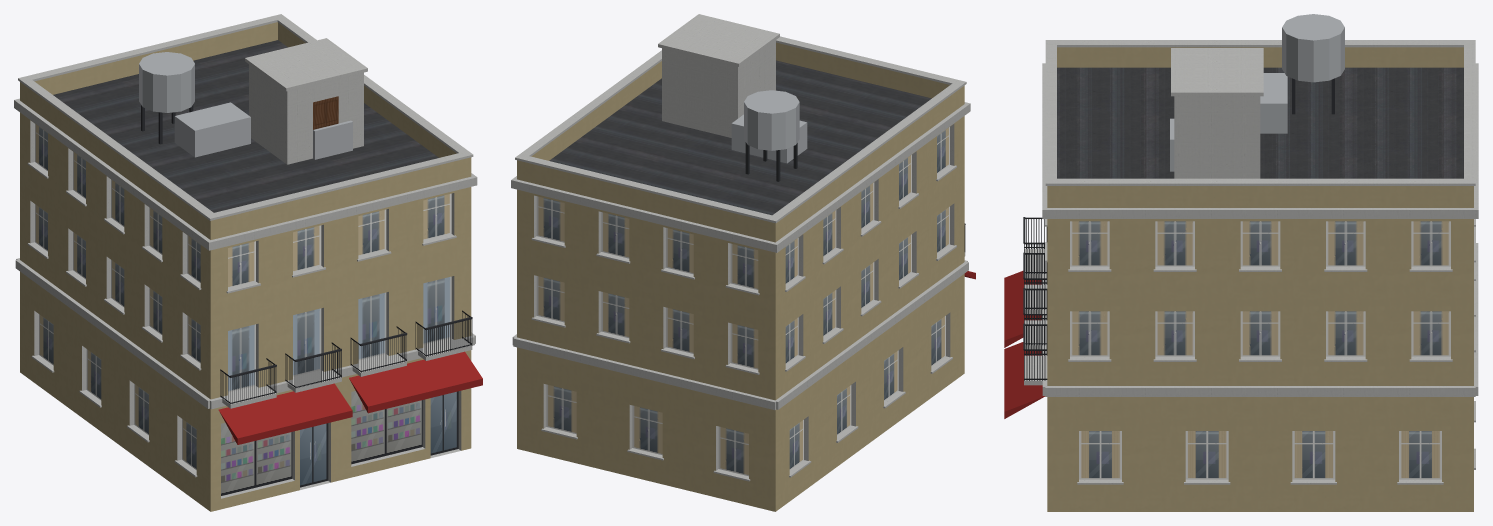
File: edificio_03_comercial_viviendas.glb
The picture shows the model from 3 angles, left to right: view 1: azimuth 30°, elevation 25°; view 2: azimuth 150°, elevation 25°; view 3: azimuth 270°, elevation 25°; orthographic projection. The views are drawn at different scales.
Visible parts, largest first — view 1: EB03_comercial_viviendas; view 2: EB03_comercial_viviendas; view 3: EB03_comercial_viviendas.
Boxes of the visible parts, x1,y1,x2,y2 form: EB03_comercial_viviendas: [14, 14, 482, 511]; EB03_comercial_viviendas: [511, 14, 975, 511]; EB03_comercial_viviendas: [1004, 14, 1478, 511].
Size of the model in its own units: 10.49 by 13.12 by 14.36.
Materials: 8 (5 with a texture image).
